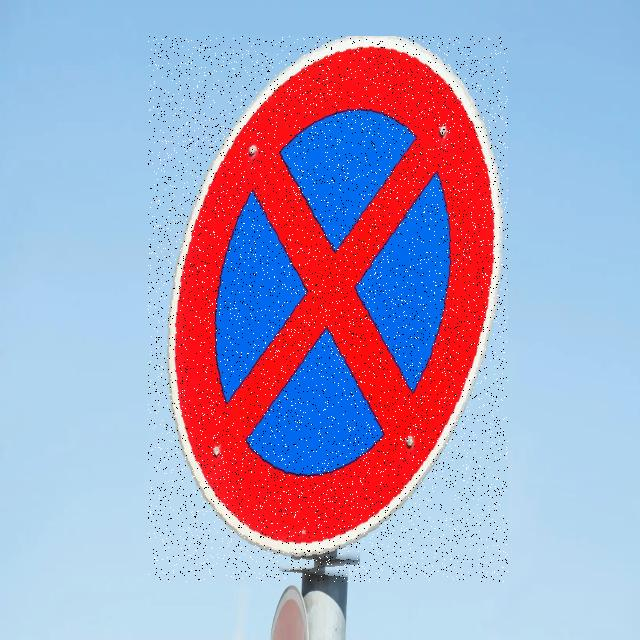no stopping: (148, 36, 508, 582)
